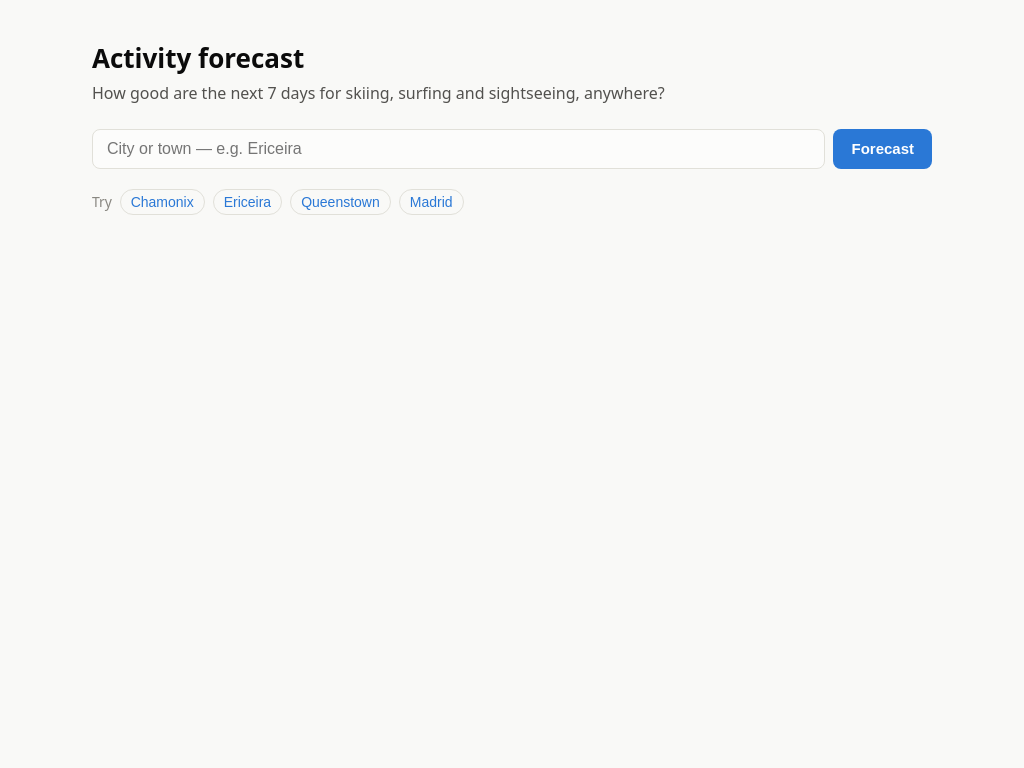
Test: selecting a cell opens its factor breakdown
Type "Ericeira" into the field labelled "City or town". click: point(459, 149)
box: [92,129,826,169]
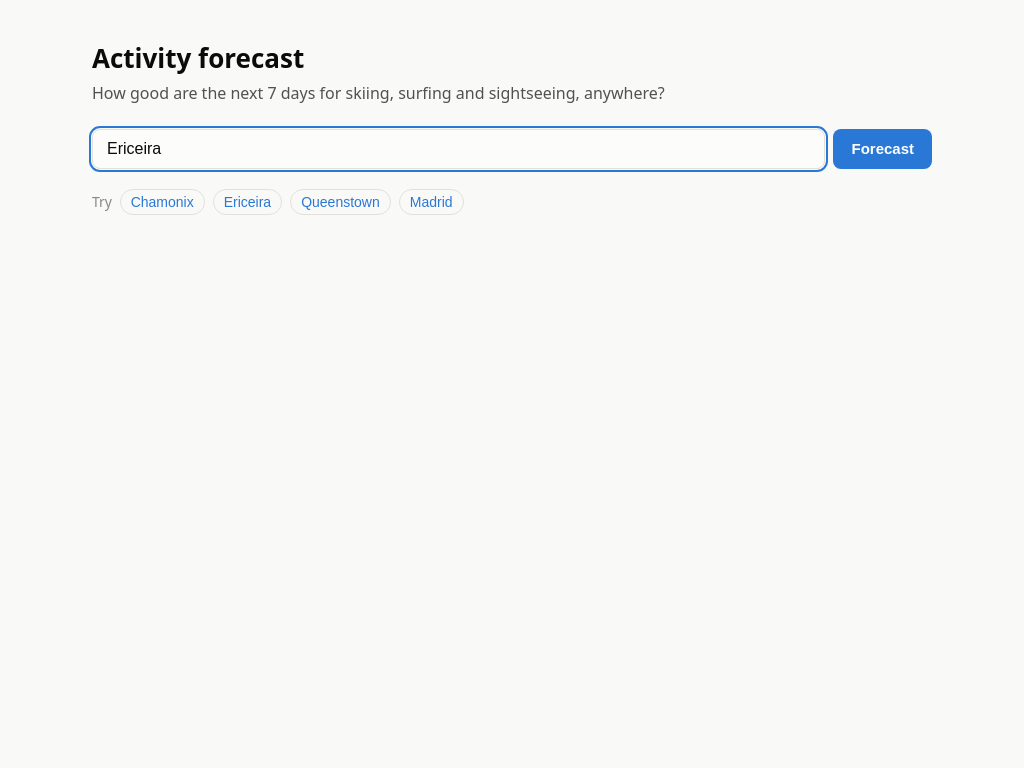
Click the button "Forecast". click: point(883, 149)
box: [834,129,932,169]
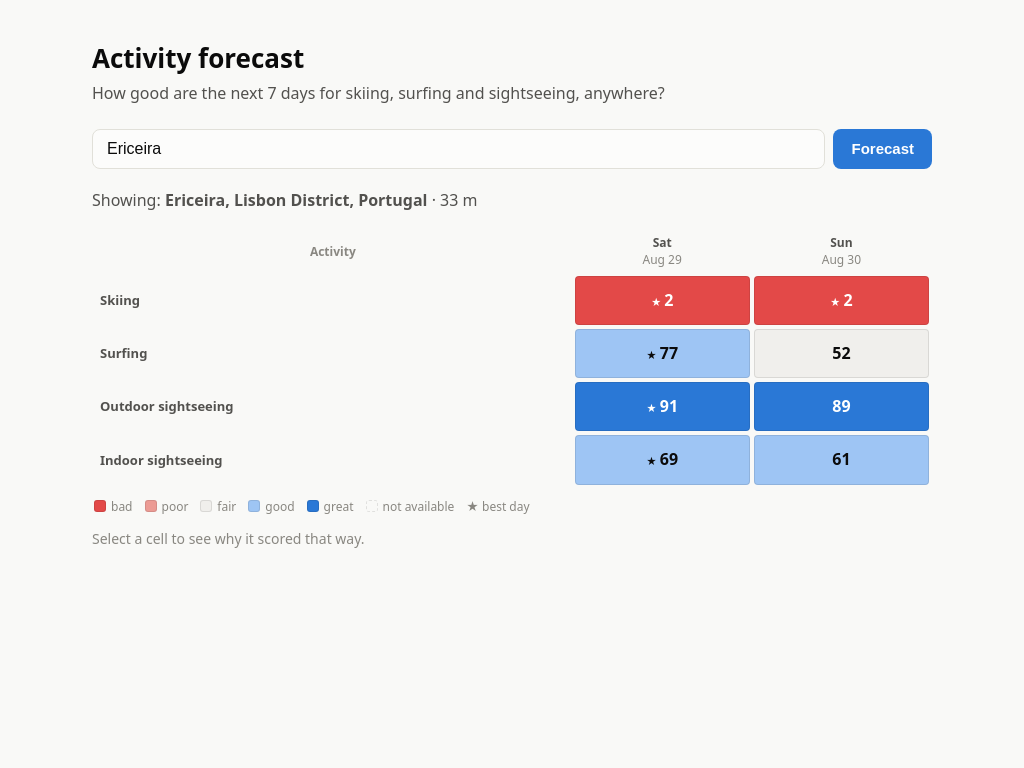
Click the button named "Surfing, 2026-08-29". click: point(662, 354)
box: [575,329,750,378]
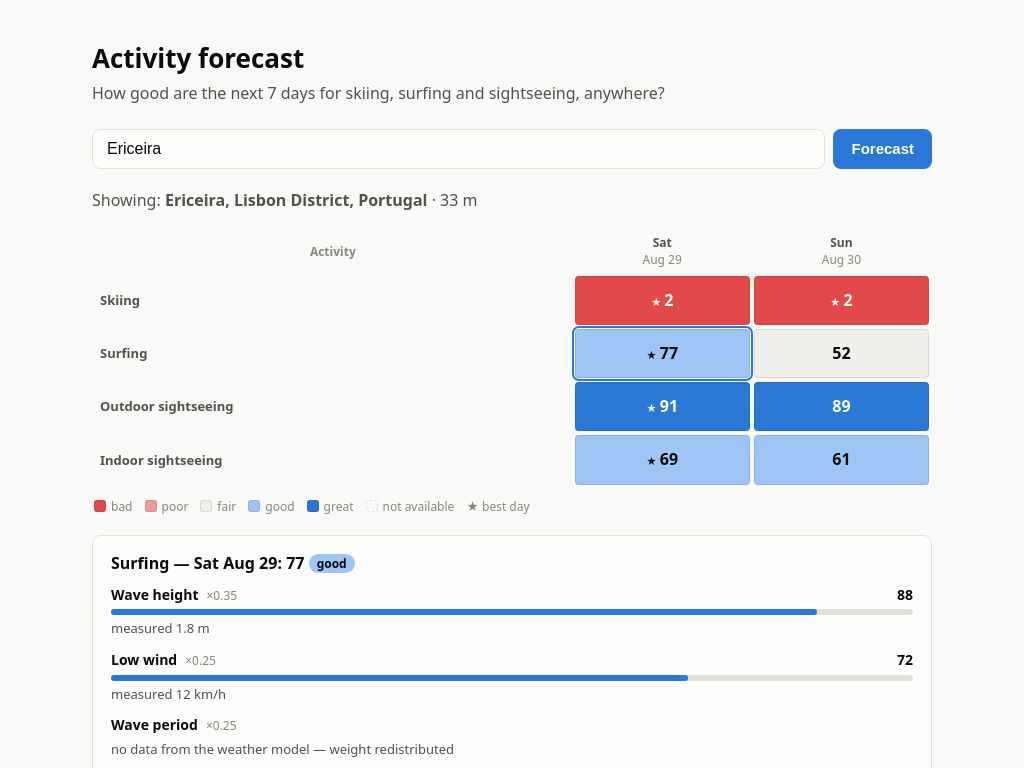
Expected: the heading "Surfing — Sat Aug 29: 77 good" is shown, [111,552,355,574]
Expected: the text "Wave height" is shown, [111,585,198,606]
Expected: the text "Select a cell" is gone
